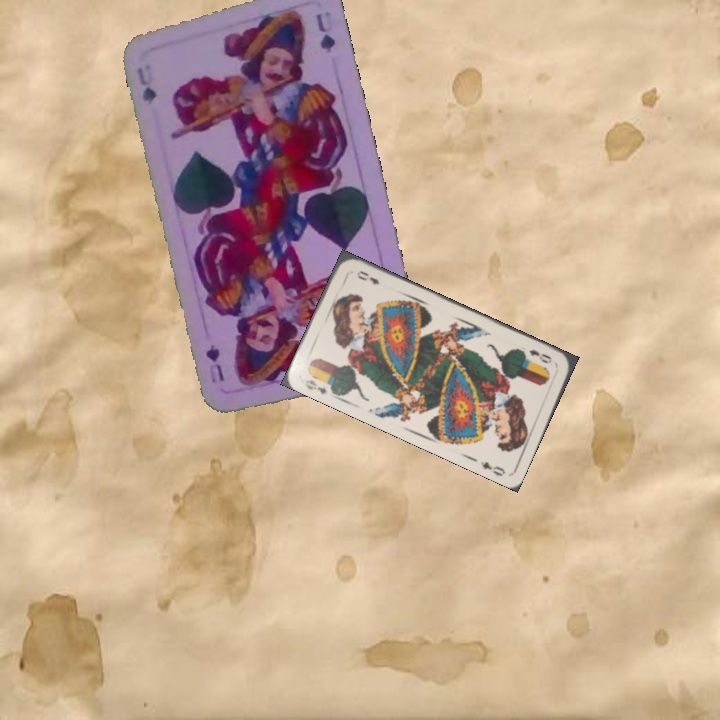EO: (300, 375, 329, 397), (525, 345, 554, 366)
GU: (132, 63, 160, 106)
